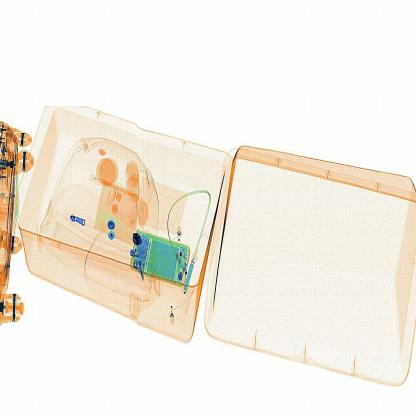scissors: (127, 223, 147, 254)
